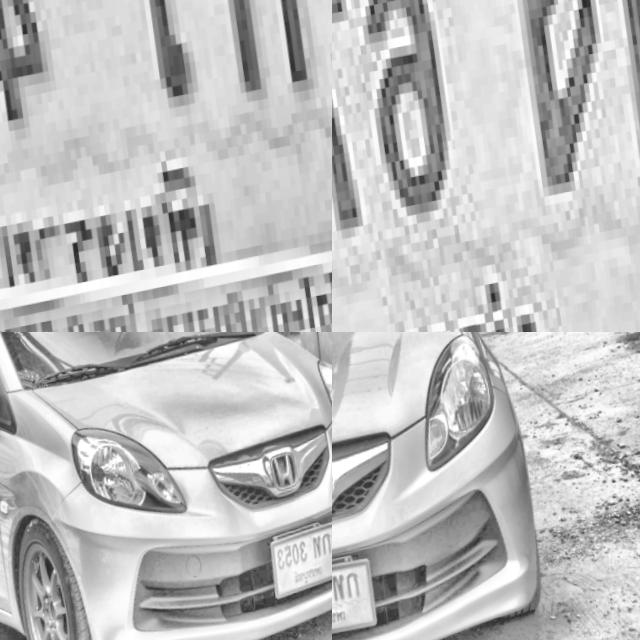license-plate: (0, 0, 332, 332), (332, 0, 640, 332), (266, 523, 332, 605), (332, 554, 384, 640)
